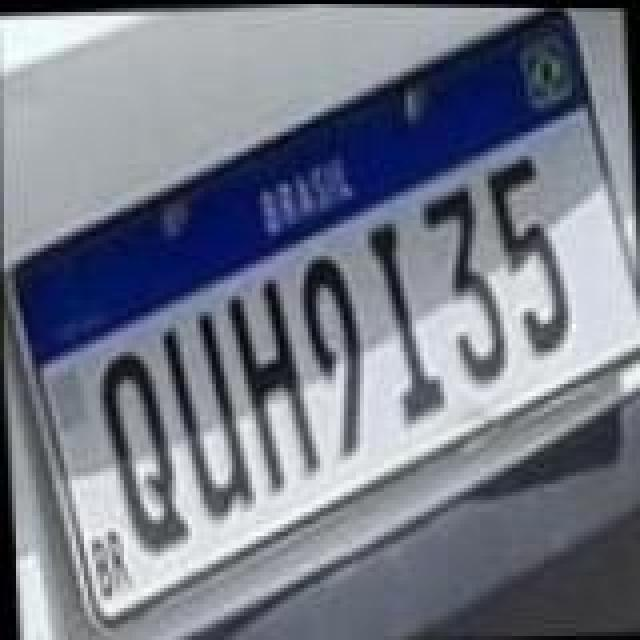3: (422, 184, 510, 384)
5: (482, 148, 574, 360)
9: (294, 254, 366, 458)
H: (226, 274, 326, 494)
I: (366, 216, 446, 428)
Q: (96, 350, 192, 558)
U: (160, 306, 256, 518)
